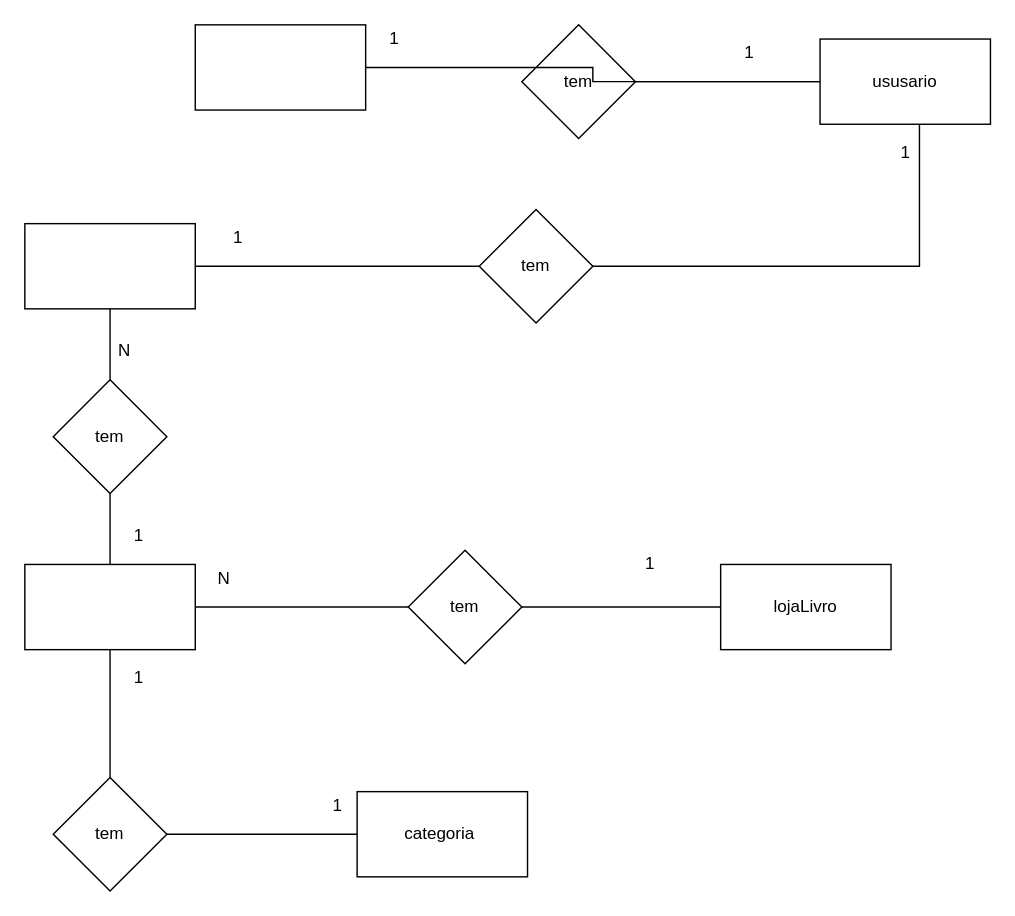
Some shapes in this 1015 by 916 pixel diagram are drawn without their labels. The box of each missing label's shape, as (x1, y1, x2, y2) in pixels:
autor: (23, 222, 195, 309)
livro: (23, 563, 195, 650)
tipoUsuario: (194, 23, 366, 110)
